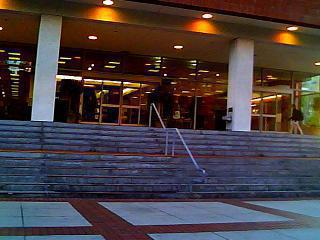Escaleras: (0, 149, 319, 203), (0, 118, 319, 158)
